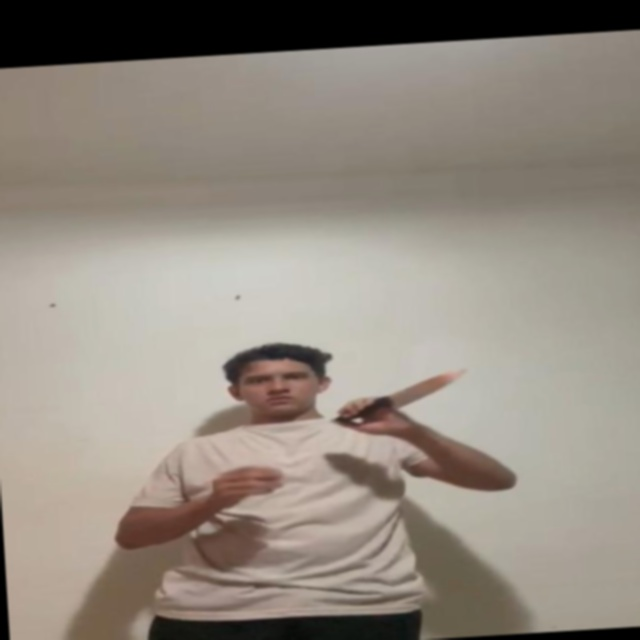Sharp-Object: (386, 365, 470, 405)
